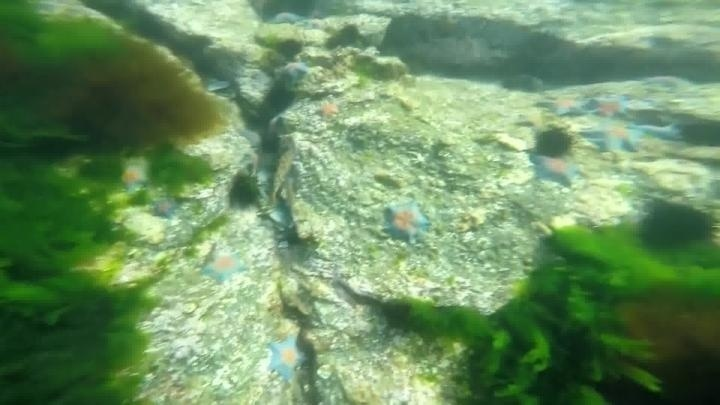echinus: (634, 197, 717, 257), (676, 115, 720, 152), (532, 125, 575, 160), (263, 80, 297, 117), (259, 132, 283, 157)
starfish: (379, 197, 433, 246), (580, 117, 644, 157), (263, 331, 310, 385), (527, 151, 585, 189), (198, 248, 250, 286), (539, 91, 593, 120), (258, 1, 318, 26), (115, 154, 154, 192), (586, 93, 634, 121), (632, 120, 684, 144), (146, 194, 182, 221), (644, 71, 687, 92), (278, 59, 312, 84), (317, 99, 339, 118)
